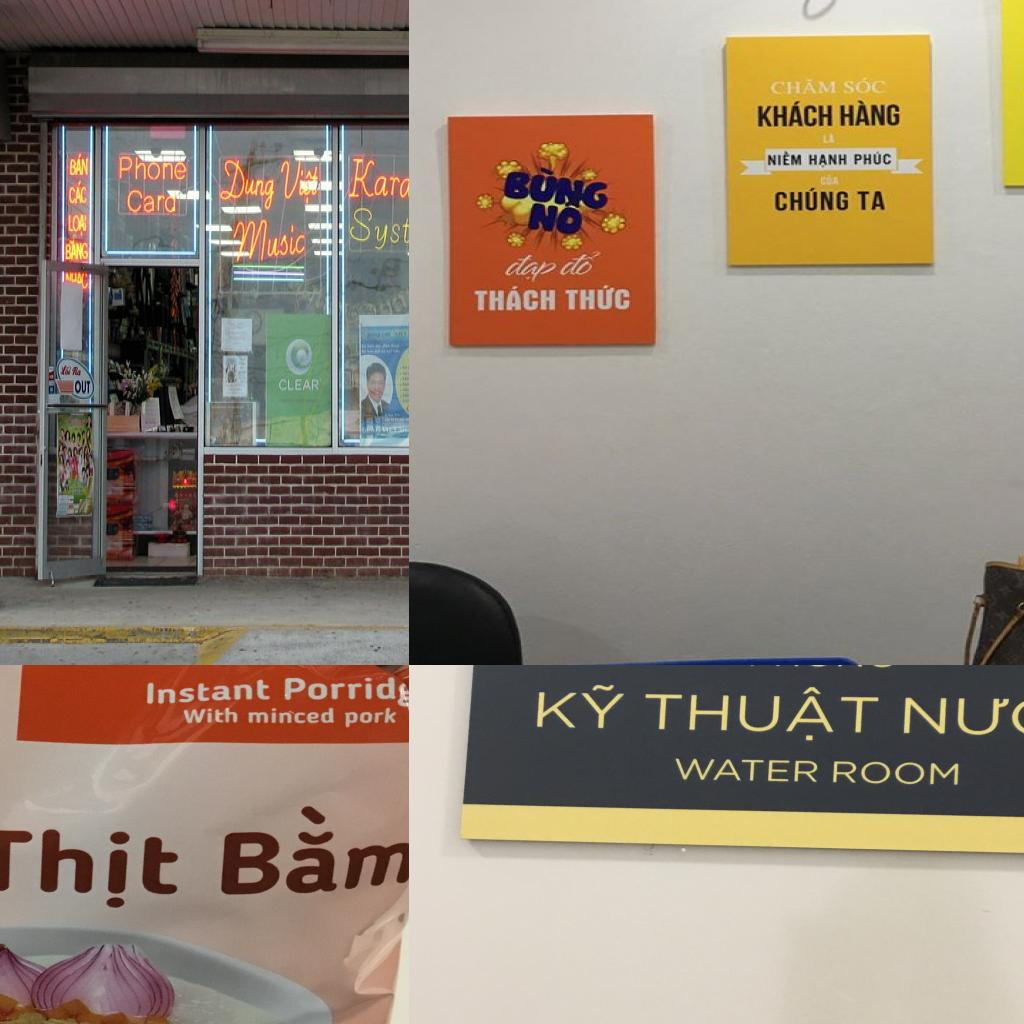text: (56, 759, 188, 912), (772, 705, 848, 885), (45, 665, 157, 731), (498, 159, 619, 211), (768, 890, 832, 966), (709, 694, 751, 805), (313, 807, 358, 907), (868, 751, 903, 861), (320, 704, 354, 800), (233, 220, 306, 262), (220, 159, 277, 211), (518, 199, 588, 240), (467, 282, 561, 312), (348, 207, 409, 251), (752, 97, 836, 128), (349, 157, 409, 200), (768, 185, 852, 212), (838, 98, 905, 130), (494, 252, 561, 282), (563, 285, 632, 312), (119, 156, 188, 182), (764, 75, 840, 98), (294, 780, 318, 848), (559, 248, 612, 278), (851, 182, 891, 216), (288, 853, 318, 894), (127, 190, 178, 214), (278, 160, 307, 200), (293, 730, 317, 774), (854, 149, 900, 171), (840, 75, 890, 95), (758, 150, 808, 168), (808, 150, 851, 166), (278, 378, 321, 392), (65, 239, 90, 263), (69, 152, 90, 178), (818, 170, 847, 188), (68, 212, 88, 238), (69, 180, 88, 206), (816, 129, 840, 145), (73, 380, 92, 396)
